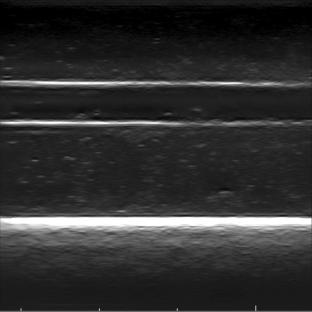vessel: (0, 78, 312, 127)
